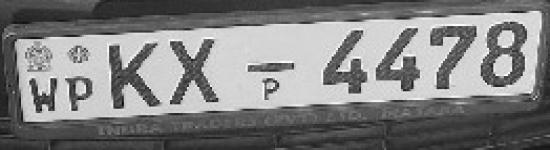-: (244, 56, 299, 78)
4: (315, 25, 374, 98), (375, 23, 426, 95)
7: (426, 21, 480, 95)
8: (481, 16, 531, 91)
K: (103, 36, 162, 112)
P: (63, 72, 96, 114)
W: (27, 74, 60, 116)
X: (165, 35, 222, 108)
